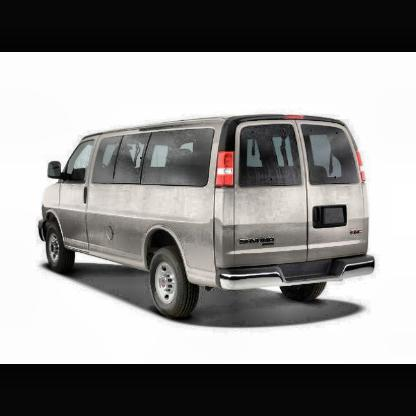GMC Savana Van 2012: (41, 115, 376, 319)
